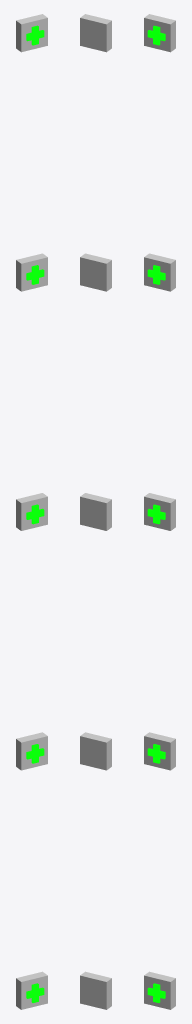
Rendered from FirstAidKit.fbx.
The picture shows the model from 3 angles, left to right: view 1: azimuth 30°, elevation 25°; view 2: azimuth 150°, elevation 25°; view 3: azimuth 330°, elevation 25°; orthographic projection.
Visible parts, largest first — view 1: EQ_FirstAid_F2_Body, EQ_FirstAid_F4_Body, EQ_FirstAid_F3_Body, EQ_FirstAid_F5_Body, EQ_FirstAid_F1_Body, EQ_FirstAid_F3_CrossH, EQ_FirstAid_F4_CrossH, EQ_FirstAid_F5_CrossH, EQ_FirstAid_F1_CrossH, EQ_FirstAid_F2_CrossV, EQ_FirstAid_F4_CrossV; view 2: EQ_FirstAid_F2_Body, EQ_FirstAid_F4_Body, EQ_FirstAid_F1_Body, EQ_FirstAid_F3_Body, EQ_FirstAid_F5_Body; view 3: EQ_FirstAid_F2_Body, EQ_FirstAid_F4_Body, EQ_FirstAid_F3_Body, EQ_FirstAid_F5_Body, EQ_FirstAid_F1_Body, EQ_FirstAid_F4_CrossH, EQ_FirstAid_F1_CrossH, EQ_FirstAid_F3_CrossH, EQ_FirstAid_F5_CrossH, EQ_FirstAid_F2_CrossH, EQ_FirstAid_F1_CrossV, EQ_FirstAid_F2_CrossV.
Boxes of the visible parts, left/top/right/bottom form: EQ_FirstAid_F2_Body: left=16, top=732, right=47, bottom=770; EQ_FirstAid_F4_Body: left=16, top=253, right=47, bottom=291; EQ_FirstAid_F3_Body: left=16, top=493, right=47, bottom=530; EQ_FirstAid_F5_Body: left=16, top=14, right=47, bottom=52; EQ_FirstAid_F1_Body: left=16, top=971, right=47, bottom=1009; EQ_FirstAid_F3_CrossH: left=26, top=508, right=44, bottom=519; EQ_FirstAid_F4_CrossH: left=26, top=269, right=44, bottom=280; EQ_FirstAid_F5_CrossH: left=26, top=30, right=44, bottom=41; EQ_FirstAid_F1_CrossH: left=26, top=987, right=44, bottom=998; EQ_FirstAid_F2_CrossV: left=31, top=744, right=38, bottom=763; EQ_FirstAid_F4_CrossV: left=31, top=265, right=38, bottom=284; EQ_FirstAid_F2_Body: left=80, top=732, right=111, bottom=770; EQ_FirstAid_F4_Body: left=80, top=253, right=111, bottom=291; EQ_FirstAid_F1_Body: left=80, top=971, right=111, bottom=1009; EQ_FirstAid_F3_Body: left=80, top=493, right=111, bottom=530; EQ_FirstAid_F5_Body: left=80, top=14, right=111, bottom=52; EQ_FirstAid_F2_Body: left=144, top=732, right=175, bottom=770; EQ_FirstAid_F4_Body: left=144, top=253, right=175, bottom=291; EQ_FirstAid_F3_Body: left=144, top=493, right=175, bottom=530; EQ_FirstAid_F5_Body: left=144, top=14, right=175, bottom=52; EQ_FirstAid_F1_Body: left=144, top=971, right=175, bottom=1009; EQ_FirstAid_F4_CrossH: left=147, top=269, right=165, bottom=280; EQ_FirstAid_F1_CrossH: left=147, top=987, right=165, bottom=998; EQ_FirstAid_F3_CrossH: left=147, top=508, right=165, bottom=519; EQ_FirstAid_F5_CrossH: left=147, top=30, right=165, bottom=41; EQ_FirstAid_F2_CrossH: left=147, top=748, right=165, bottom=759; EQ_FirstAid_F1_CrossV: left=153, top=983, right=160, bottom=1002; EQ_FirstAid_F2_CrossV: left=153, top=744, right=160, bottom=763.
Size of the model in its own units: 0.35 by 12.35 by 0.15.
